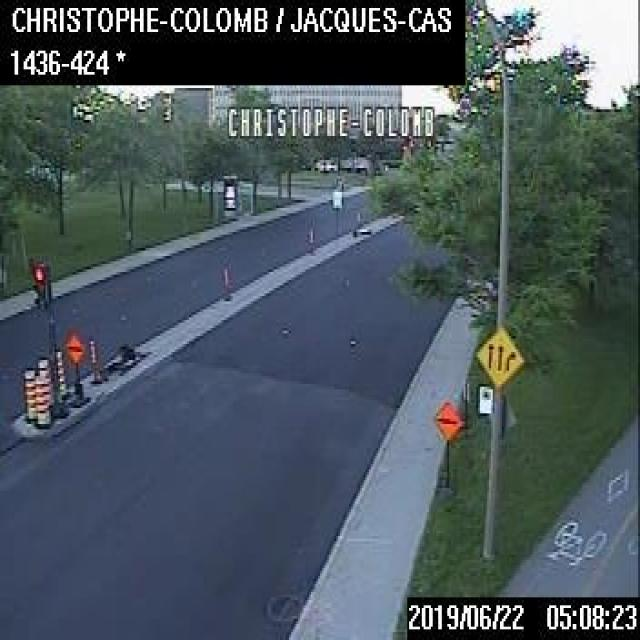construction: (433, 399, 459, 490), (64, 332, 89, 406), (36, 356, 54, 412), (34, 374, 51, 426), (22, 364, 36, 421), (56, 348, 70, 398)
vehicle: (314, 156, 336, 169)
